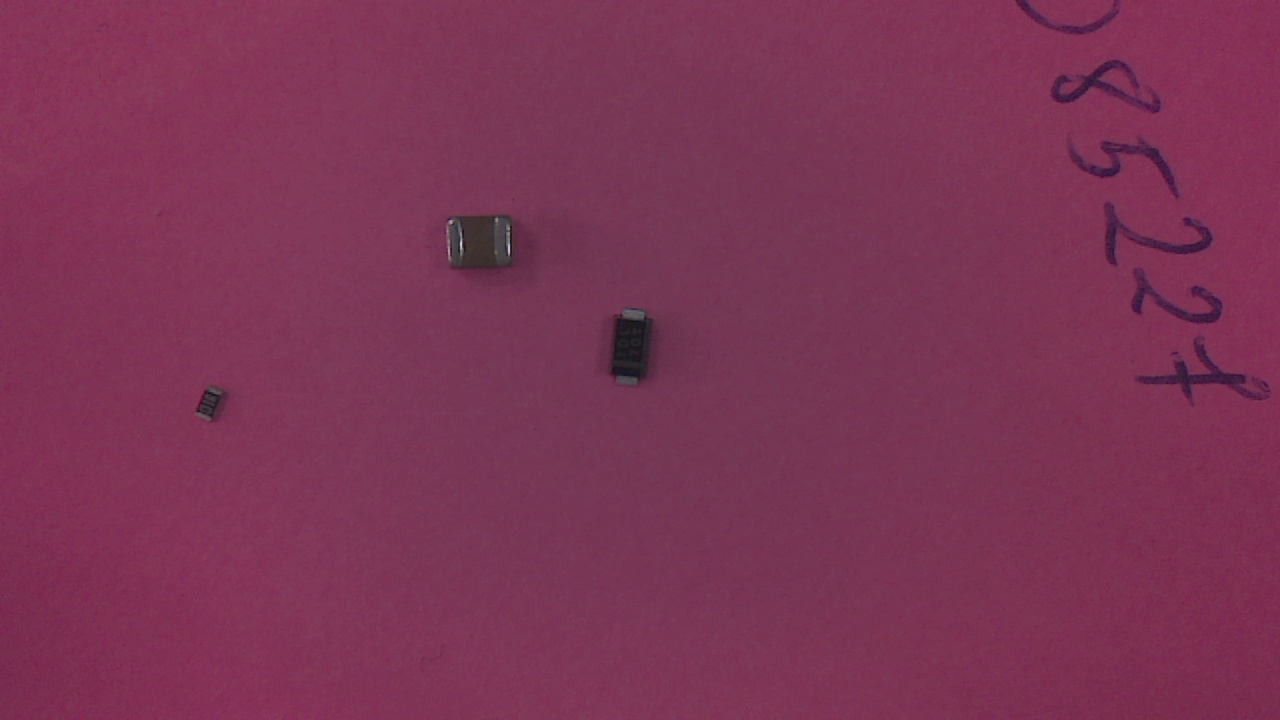Condensator: (455, 216, 524, 274)
Diode: (612, 311, 676, 393)
Resistor: (198, 388, 230, 429)
